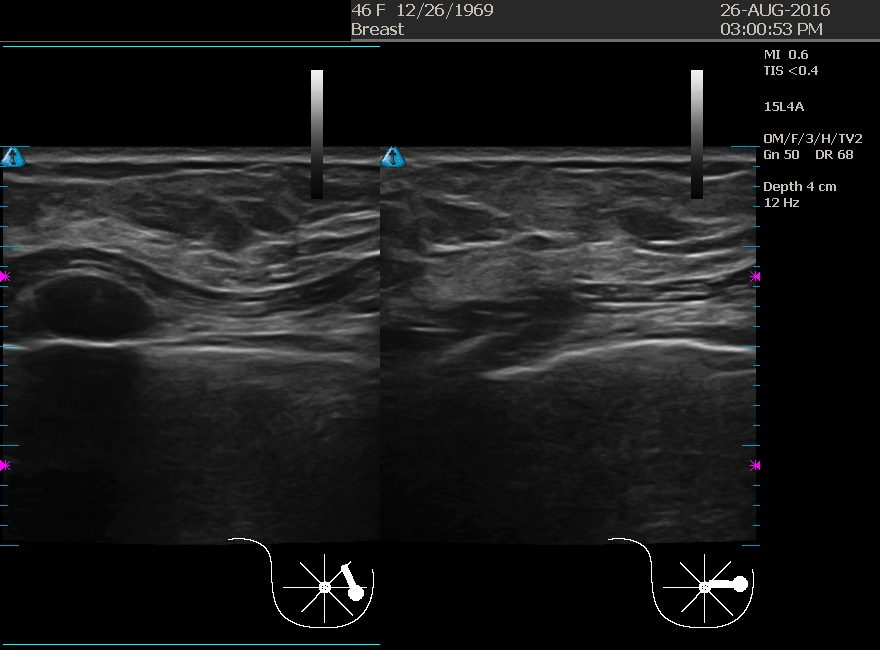BIRADS_2: (106, 153, 306, 353), (528, 202, 728, 402)
